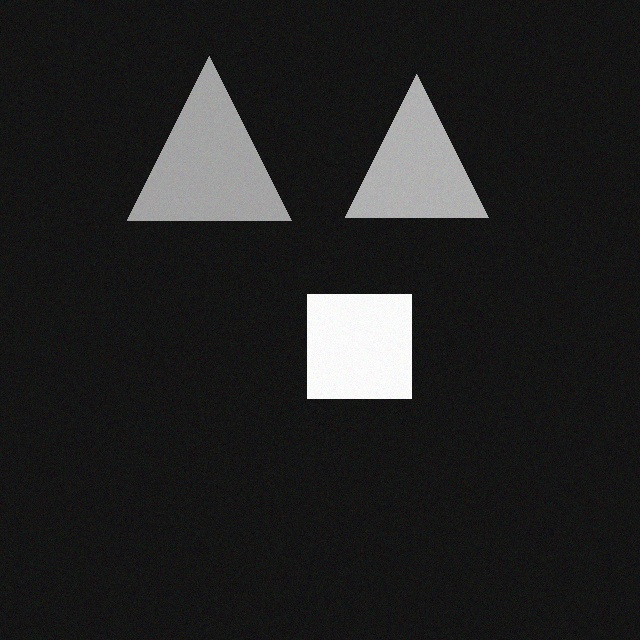square: (306, 291, 410, 395)
triangle: (126, 53, 290, 217), (344, 71, 487, 214)
